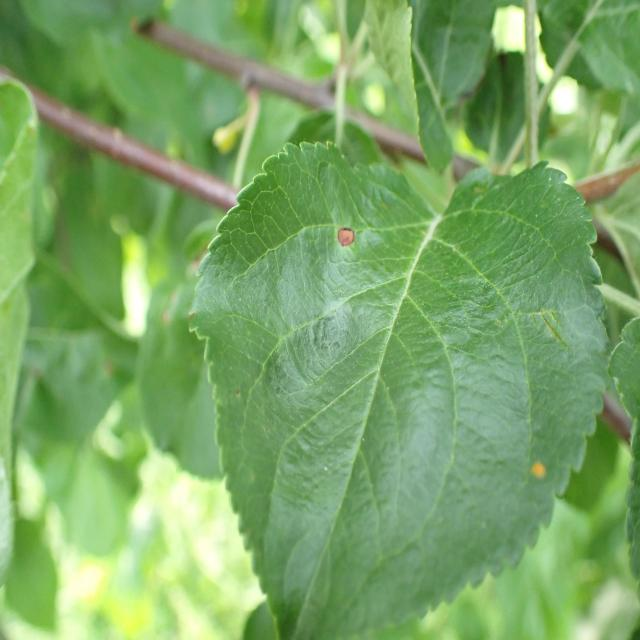Black Rot: (333, 200, 363, 276)
Rust: (514, 447, 567, 507)
